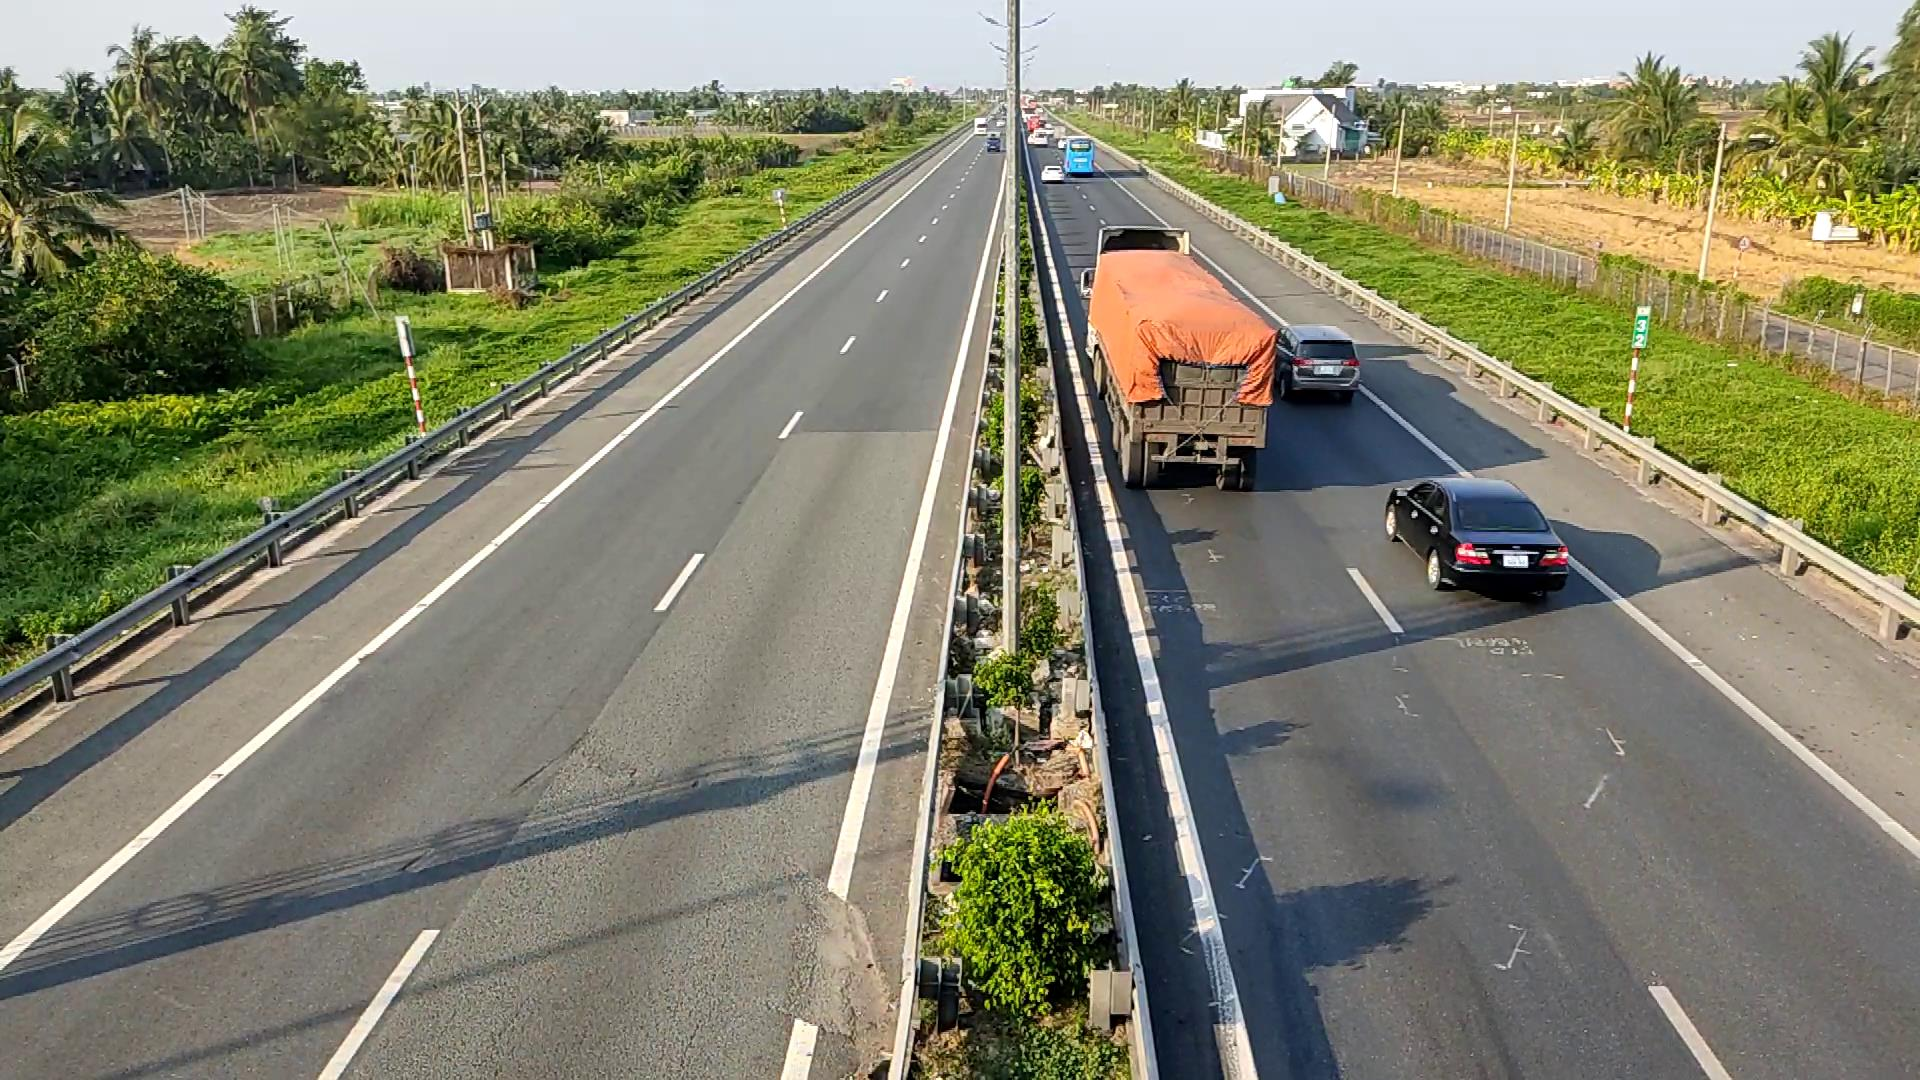car: (1383, 476, 1571, 596), (1273, 323, 1361, 404)
truck: (1083, 237, 1279, 489)
